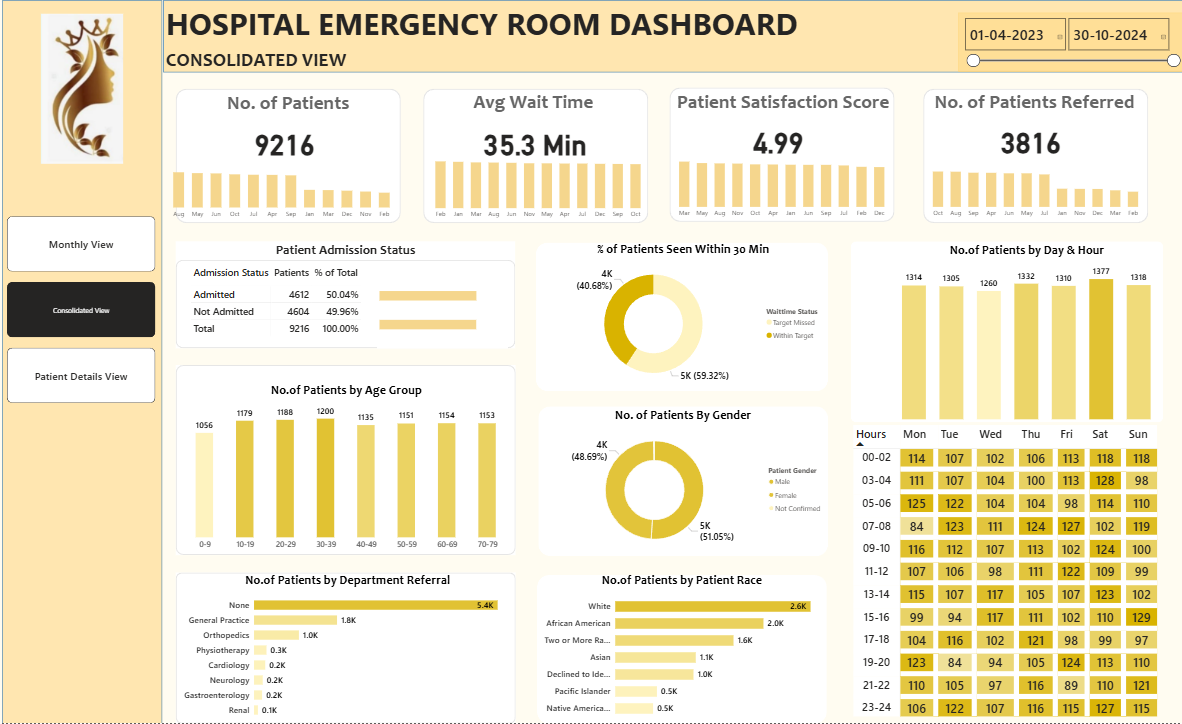

The page's visual inventory and layout, read from the dashboard file:
{"tool":"powerbi","page":{"name":"Consolidated View","canvas":[2300,1400],"ordinal":1},"visuals":[{"type":"shape","box":[9.9,0,310,1400.5],"z":0},{"type":"shape","box":[320.5,0,1980,140],"z":1000},{"type":"textbox","box":[321.7,0,1978.6,89.5],"z":2000},{"type":"shape","box":[346.7,171.1,435.6,260],"z":3000},{"type":"card","fields":{"Values":["Hospital ER_Data.No.of Patients"]},"box":[459.6,224.9,193.5,96.8],"z":4000},{"type":"slicer","fields":{"Values":["Date Table.Date"]},"box":[1861,24.4,439,114.6],"z":5000},{"type":"textbox","box":[322,87.8,412.2,136.6],"z":6000},{"type":"textbox","box":[440.2,171.7,295.1,65.3],"z":7000},{"type":"columnChart","fields":{"Y":["Hospital ER_Data.No.of Patients"],"Category":["Date Table.Month"]},"box":[322,287.8,458.5,143.9],"z":8000},{"type":"shape","box":[1792.8,171.1,435.6,260],"z":9000},{"type":"shape","box":[824.9,171.4,435.6,260],"z":10000},{"type":"card","fields":{"Values":["Hospital ER_Data.Avg Wait Time"]},"box":[924,224.9,234.6,96.8],"z":11000},{"type":"textbox","box":[916.7,169.3,292.7,67.7],"z":12000},{"type":"columnChart","fields":{"Category":["Date Table.Month"],"Y":["Avg(Hospital ER_Data.Patient Waittime)"]},"box":[829.7,290.3,435.4,142.7],"z":13000},{"type":"shape","box":[1301,169.5,435.6,260],"z":14000},{"type":"card","fields":{"Values":["Hospital ER_Data.Satisfaction Score"]},"box":[1413.9,223.3,193.5,96.8],"z":15000},{"type":"textbox","box":[1311,169.3,435.4,65.3],"z":16000},{"type":"columnChart","fields":{"Y":["Hospital ER_Data.Satisfaction Score"],"Category":["Date Table.Month"]},"box":[1301.3,287.8,435.4,142.7],"z":17000},{"type":"textbox","box":[1809.3,169.3,435.4,65.3],"z":18000},{"type":"card","fields":{"Values":["Hospital ER_Data.No.of Patients Referred"]},"box":[1903.6,222.5,193.5,96.8],"z":19000},{"type":"columnChart","fields":{"Category":["Date Table.Month"],"Y":["Hospital ER_Data.No.of Patients Referred"]},"box":[1792.3,287.8,435.4,142.7],"z":20000},{"type":"shape","title":"Patient Admission Status","box":[345.2,466.7,657.1,207.1],"z":21000},{"type":"pivotTable","fields":{"Rows":["Hospital ER_Data.Admission Status"],"Values":["Hospital ER_Data.No.of Patients1","Hospital ER_Data.No.of Patients"]},"box":[370.1,505.5,437.8,152.4],"z":22000},{"type":"barChart","fields":{"Category":["Hospital ER_Data.Admission Status"],"Y":["Hospital ER_Data.No.of Patients"]},"box":[735.3,522.5,254,152.4],"z":23000},{"type":"shape","box":[1652,466.8,604.7,350.7],"z":24000},{"type":"shape","title":"Patient Admission Status","box":[345.9,706.3,657.9,367.7],"z":25000},{"type":"clusteredColumnChart","fields":{"Category":["Hospital ER_Data.Age Group"],"Y":["Hospital ER_Data.No.of Patients"]},"box":[348.3,740.2,655.5,333.8],"z":26000},{"type":"pivotTable","fields":{"Rows":["Hospital ER_Data.Waittime Interval"],"Columns":["Date Table.Day Name"],"Values":["Hospital ER_Data.No.of Patients"]},"box":[1652,817.6,604.7,582.9],"z":27000},{"type":"shape","title":"Patient Admission Status","box":[345.9,1107.8,657.9,292.7],"z":28000},{"type":"clusteredBarChart","fields":{"Category":["Hospital ER_Data.Department Referral"],"Y":["Hospital ER_Data.No.of Patients"]},"box":[356.1,1107.3,646.3,292.7],"z":29000},{"type":"shape","box":[1041.5,468.3,565.9,287.8],"z":30000},{"type":"donutChart","title":"% of Patients Seen Within 30 Min","fields":{"Category":["Hospital ER_Data.Waittime Status"],"Y":["Hospital ER_Data.No.of Patients"]},"box":[1046.3,465.9,561,290.2],"z":31000},{"type":"shape","box":[1046.3,785.4,561,290.2],"z":32000},{"type":"donutChart","title":"No. of Patients By Gender","fields":{"Y":["Hospital ER_Data.No.of Patients"],"Category":["Hospital ER_Data.Patient Gender"]},"box":[1046.3,787.8,561,290.2],"z":33000},{"type":"shape","box":[1043.9,1112.2,561,287.8],"z":34000},{"type":"clusteredBarChart","fields":{"Y":["Hospital ER_Data.No.of Patients"],"Category":["Hospital ER_Data.Patient Race"]},"box":[1041.5,1107.3,565.9,292.7],"z":35000},{"type":"columnChart","title":"No.of Patients by Day & Hour","fields":{"Category":["Date Table.Day Name"],"Y":["Hospital ER_Data.No.of Patients"]},"box":[1746.4,469.2,493.4,348.3],"z":36000},{"type":"pageNavigator","box":[19.4,418.5,287.8,362.8],"z":37000},{"type":"image","box":[14.5,21.8,299.9,299.9],"z":37001}]}

Visuals, with their boxes in screenshot pixels (x1, y1, x2, y2), scaled from the page's 2300x1400 canvas onto the 1182x724 screenshot:
shape: <region>5, 0, 164, 723</region>
shape: <region>165, 0, 1181, 72</region>
textbox: <region>165, 0, 1181, 46</region>
shape: <region>178, 88, 402, 223</region>
card - Hospital ER_Data.No.of Patients: <region>236, 116, 336, 166</region>
slicer - Date Table.Date: <region>956, 13, 1181, 72</region>
textbox: <region>165, 45, 377, 116</region>
textbox: <region>226, 89, 378, 123</region>
columnChart - Hospital ER_Data.No.of Patients x Date Table.Month: <region>165, 149, 401, 223</region>
shape: <region>921, 88, 1145, 223</region>
shape: <region>424, 89, 648, 223</region>
card - Hospital ER_Data.Avg Wait Time: <region>475, 116, 595, 166</region>
textbox: <region>471, 88, 622, 123</region>
columnChart - Date Table.Month x Avg(Hospital ER_Data.Patient Waittime): <region>426, 150, 650, 224</region>
shape: <region>669, 88, 892, 222</region>
card - Hospital ER_Data.Satisfaction Score: <region>727, 115, 826, 166</region>
textbox: <region>674, 88, 897, 121</region>
columnChart - Hospital ER_Data.Satisfaction Score x Date Table.Month: <region>669, 149, 893, 223</region>
textbox: <region>930, 88, 1154, 121</region>
card - Hospital ER_Data.No.of Patients Referred: <region>978, 115, 1078, 165</region>
columnChart - Date Table.Month x Hospital ER_Data.No.of Patients Referred: <region>921, 149, 1145, 223</region>
"Patient Admission Status" shape: <region>177, 241, 515, 348</region>
pivotTable - Hospital ER_Data.Admission Status x Hospital ER_Data.No.of Patients1: <region>190, 261, 415, 340</region>
barChart - Hospital ER_Data.Admission Status x Hospital ER_Data.No.of Patients: <region>378, 270, 508, 349</region>
shape: <region>849, 241, 1160, 423</region>
"Patient Admission Status" shape: <region>178, 365, 516, 555</region>
clusteredColumnChart - Hospital ER_Data.Age Group x Hospital ER_Data.No.of Patients: <region>179, 383, 516, 555</region>
pivotTable - Hospital ER_Data.Waittime Interval x Date Table.Day Name: <region>849, 423, 1160, 723</region>
"Patient Admission Status" shape: <region>178, 573, 516, 723</region>
clusteredBarChart - Hospital ER_Data.Department Referral x Hospital ER_Data.No.of Patients: <region>183, 573, 515, 723</region>
shape: <region>535, 242, 826, 391</region>
"% of Patients Seen Within 30 Min" donutChart: <region>538, 241, 826, 391</region>
shape: <region>538, 406, 826, 556</region>
"No. of Patients By Gender" donutChart: <region>538, 407, 826, 557</region>
shape: <region>536, 575, 825, 723</region>
clusteredBarChart - Hospital ER_Data.No.of Patients x Hospital ER_Data.Patient Race: <region>535, 573, 826, 723</region>
"No.of Patients by Day & Hour" columnChart: <region>897, 243, 1151, 423</region>
pageNavigator: <region>10, 216, 158, 404</region>
image: <region>7, 11, 162, 166</region>
